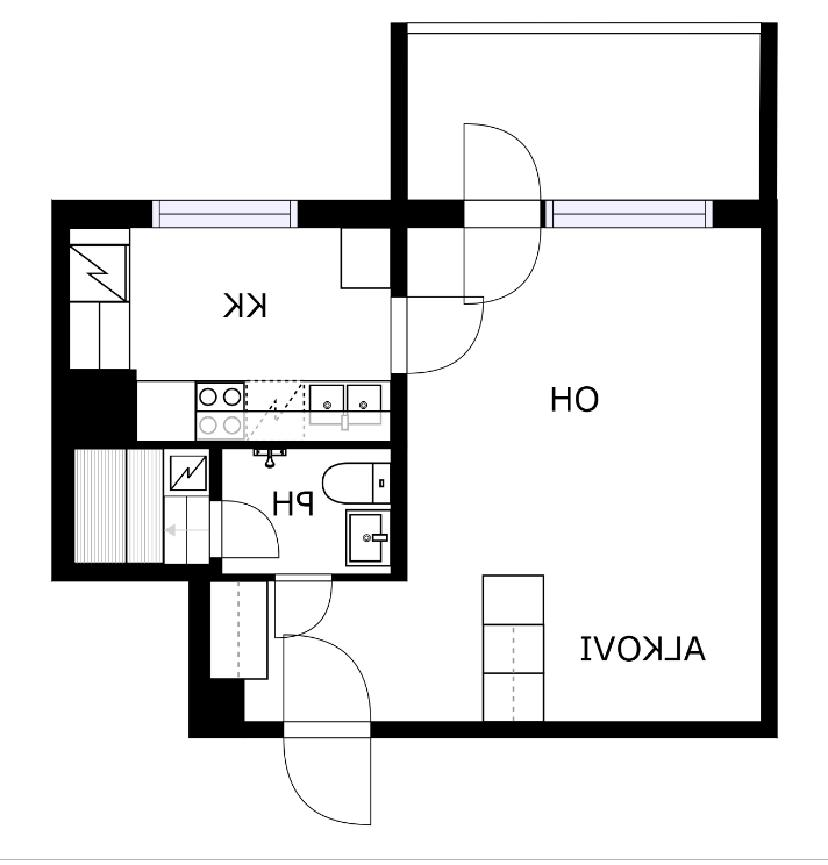door: (278, 635, 392, 829), (460, 120, 548, 309), (387, 294, 487, 378), (207, 499, 280, 566), (272, 570, 337, 636)
window: (544, 196, 714, 226), (154, 200, 297, 225)
zone: (208, 229, 760, 725), (67, 228, 394, 444), (407, 34, 756, 197), (214, 446, 394, 576), (75, 451, 211, 569)
